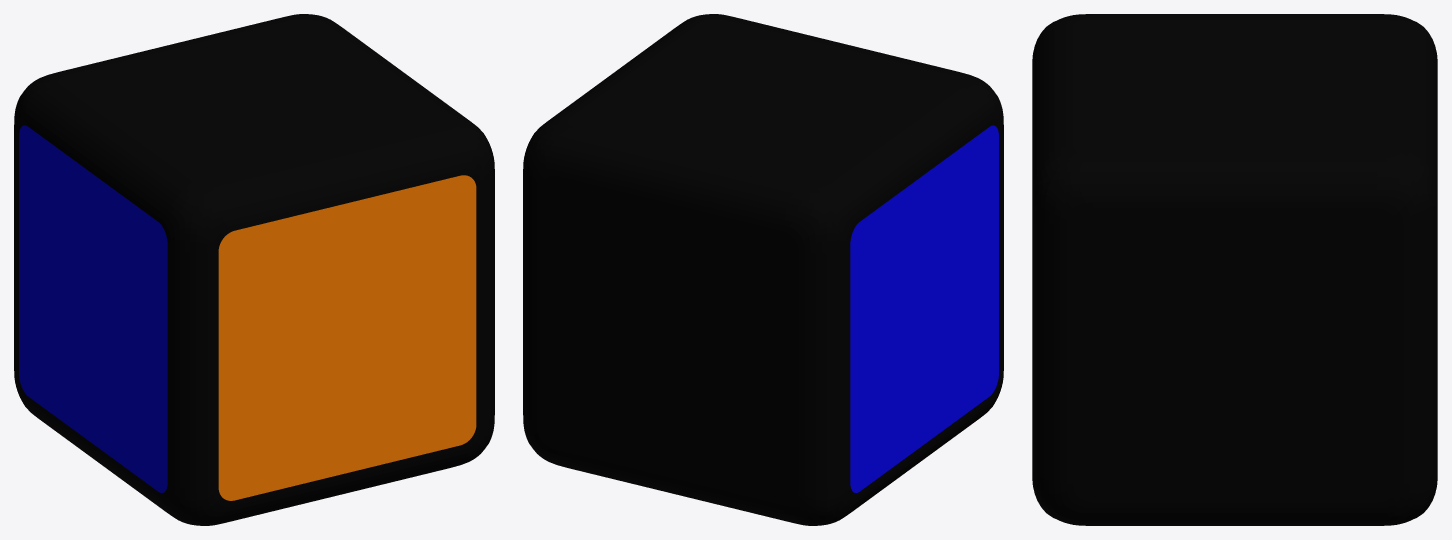
3 renders of one model, left to right at view 1: azimuth 30°, elevation 25°; view 2: azimuth 150°, elevation 25°; view 3: azimuth 270°, elevation 25°, orthographic. The views are drawn at different scales.
Visible parts, largest first — view 1: bo; view 2: bo; view 3: bo.
Part boxes in pixels (bbox=[...]): bo: bbox=[14, 14, 494, 525]; bo: bbox=[523, 14, 1003, 525]; bo: bbox=[1032, 14, 1437, 525].
Size of the model in its own units: 100 by 100 by 100.
